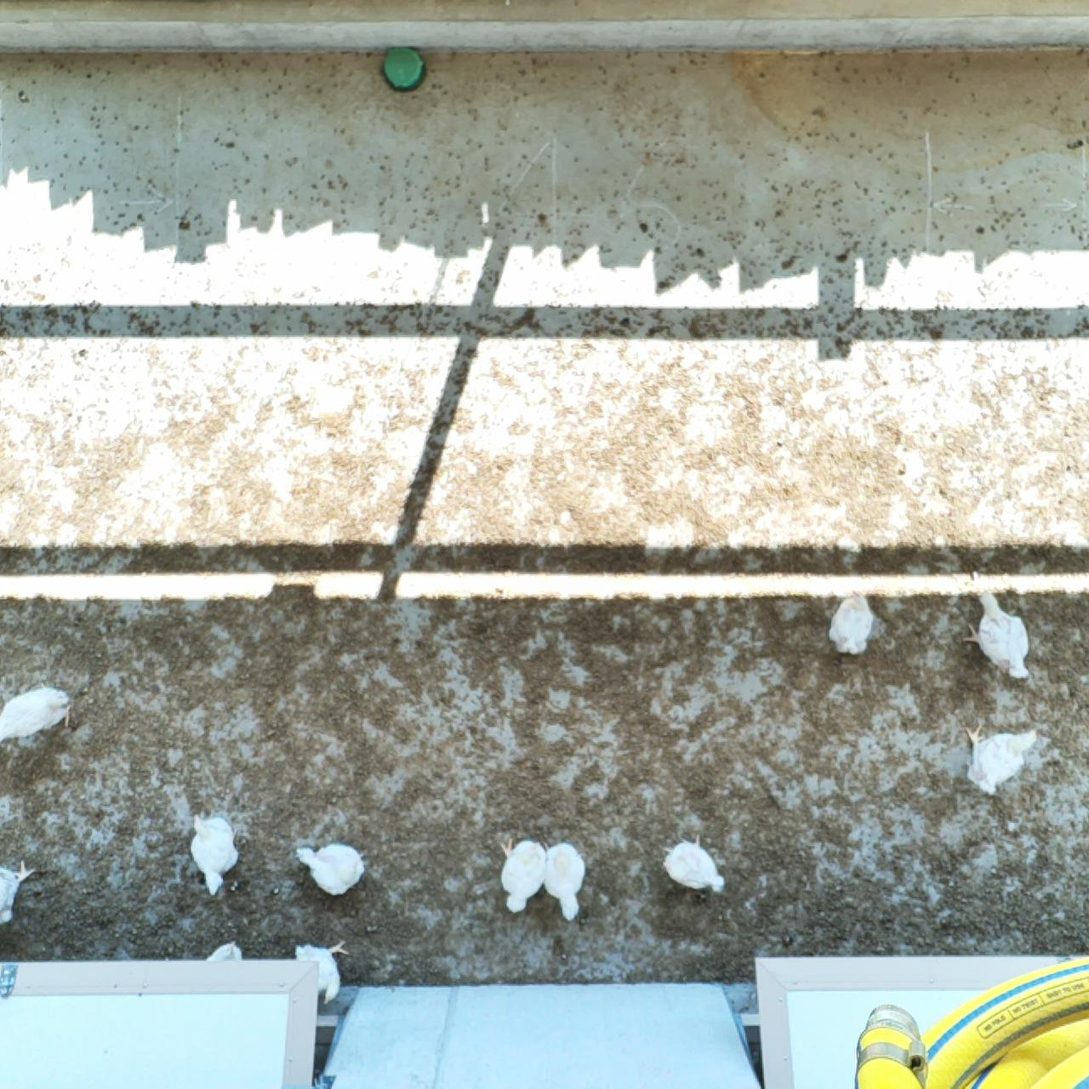chicken: (958, 584, 1035, 684), (959, 719, 1042, 800), (0, 678, 74, 749), (185, 809, 243, 899), (657, 829, 730, 898), (495, 831, 550, 917), (536, 837, 588, 924), (291, 936, 354, 1007), (294, 842, 371, 899), (826, 585, 877, 659), (0, 856, 37, 928), (202, 939, 246, 964)
